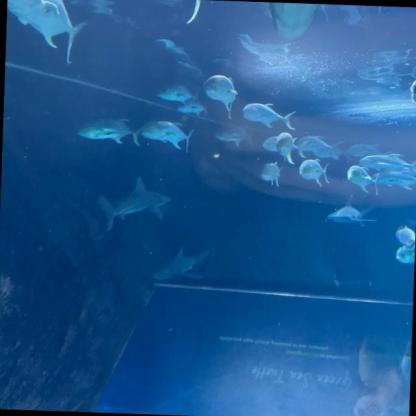fish: (5, 0, 92, 68), (230, 1, 356, 43), (76, 114, 150, 146), (140, 116, 194, 152), (201, 72, 243, 118), (239, 100, 298, 131), (356, 151, 416, 176), (346, 163, 386, 199), (292, 133, 349, 158), (186, 0, 232, 29), (366, 167, 416, 192), (297, 156, 335, 187), (154, 81, 197, 105), (276, 131, 304, 165), (174, 98, 211, 121), (259, 158, 287, 188), (392, 222, 415, 254), (261, 134, 290, 154), (395, 242, 414, 266)
shark: (99, 176, 169, 230), (154, 243, 213, 283), (324, 191, 376, 230)
